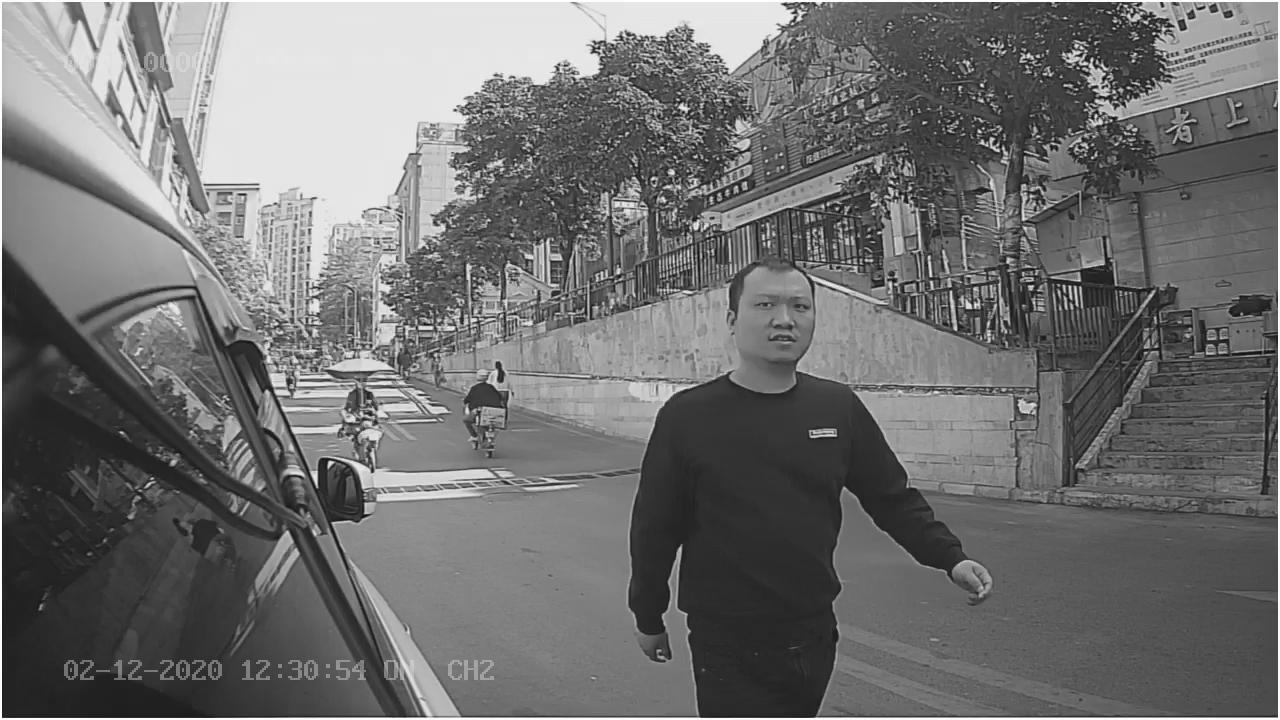person: (624, 257, 1002, 671)
